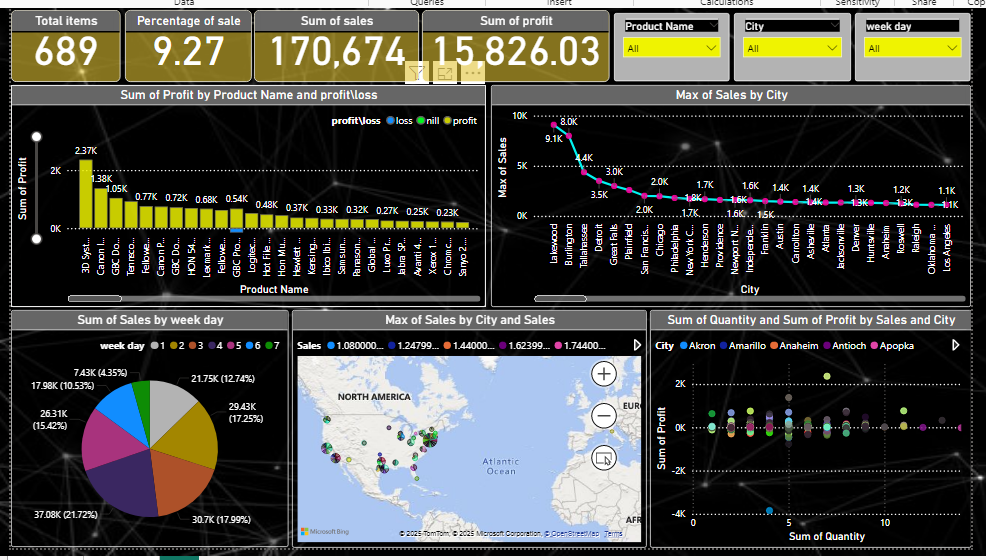

This screenshot's page, from the dashboard's own definition file:
{"tool":"powerbi","page":{"name":"Page 1","canvas":[1280,720],"ordinal":0},"visuals":[{"type":"card","title":"Percentage of sale","fields":{"Values":["Orders.percentage of sales"]},"box":[151.4,2.9,168.6,95.7],"z":0},{"type":"columnChart","fields":{"Y":["Sum(Orders.Profit)"],"Category":["Orders.Product Name"],"Series":["Orders.profit\\loss"]},"box":[0,102.9,632.9,295.7],"z":1000},{"type":"card","title":"Sum of sales","fields":{"Values":["Sum(Orders.Sales)"]},"box":[324.3,2.9,220,95.7],"z":2000},{"type":"card","title":"Total items ","fields":{"Values":["CountNonNull(Orders.Quantity)"]},"box":[0,2.9,145.7,95.7],"z":3000},{"type":"card","title":"Sum of profit","fields":{"Values":["Sum(Orders.Profit)"]},"box":[548.6,2.9,250,95.7],"z":4000},{"type":"lineChart","fields":{"Y":["Max(Orders.Sales)"],"Category":["Orders.City"]},"box":[640,102.9,640,295.7],"z":5000},{"type":"pieChart","fields":{"Y":["Sum(Orders.Sales)"],"Series":["Orders.week day"]},"box":[0,402.9,370,315.7],"z":6000},{"type":"slicer","fields":{"Values":["Orders.Product Name"]},"box":[804.3,7.1,154.3,91.4],"z":7000},{"type":"slicer","fields":{"Values":["Orders.City"]},"box":[964.3,7.1,155.7,91.4],"z":8000},{"type":"slicer","fields":{"Values":["Orders.week day"]},"box":[1125.7,7.1,154.3,91.4],"z":9000},{"type":"scatterChart","fields":{"Category":["Orders.Sales"],"X":["Sum(Orders.Quantity)"],"Y":["Sum(Orders.Profit)"],"Series":["Orders.City"]},"box":[851.4,402.9,428.6,317.1],"z":10000},{"type":"map","fields":{"Category":["Orders.City"],"Size":["Max(Orders.Sales)"],"Series":["Orders.Sales"]},"box":[374.3,402.9,472.9,317.1],"z":11000}]}

Visuals, with their boxes in screenshot pixels (x1, y1, x2, y2):
"Percentage of sale" card: [x1=123, y1=7, x2=251, y2=80]
columnChart - Sum(Orders.Profit) x Orders.Product Name: [x1=8, y1=83, x2=488, y2=308]
"Sum of sales" card: [x1=254, y1=7, x2=421, y2=80]
"Total items " card: [x1=8, y1=7, x2=118, y2=80]
"Sum of profit" card: [x1=424, y1=7, x2=614, y2=80]
lineChart - Max(Orders.Sales) x Orders.City: [x1=494, y1=83, x2=980, y2=308]
pieChart - Sum(Orders.Sales) x Orders.week day: [x1=8, y1=311, x2=289, y2=551]
slicer - Orders.Product Name: [x1=619, y1=11, x2=736, y2=80]
slicer - Orders.City: [x1=740, y1=11, x2=859, y2=80]
slicer - Orders.week day: [x1=863, y1=11, x2=980, y2=80]
scatterChart - Orders.Sales x Sum(Orders.Quantity): [x1=654, y1=311, x2=980, y2=552]
map - Orders.City x Max(Orders.Sales): [x1=292, y1=311, x2=651, y2=552]
